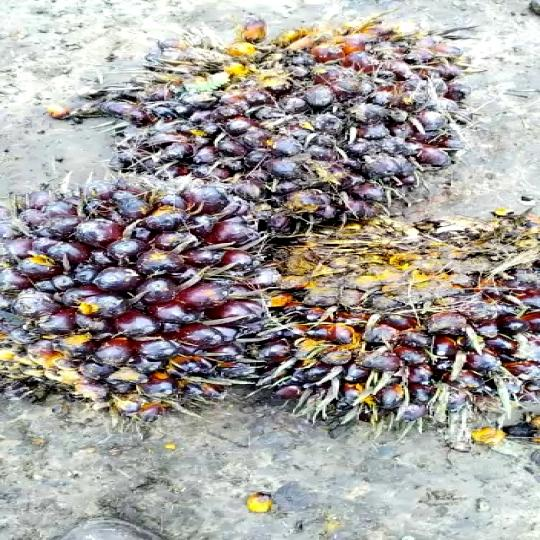kurang masak: (0, 151, 325, 441), (87, 19, 469, 263), (272, 213, 540, 443)
